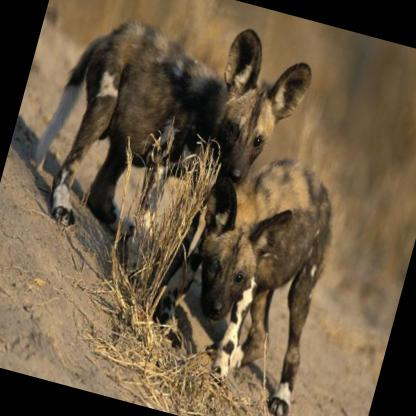African_hunting_dog: (21, 0, 331, 274), (151, 121, 355, 416)
